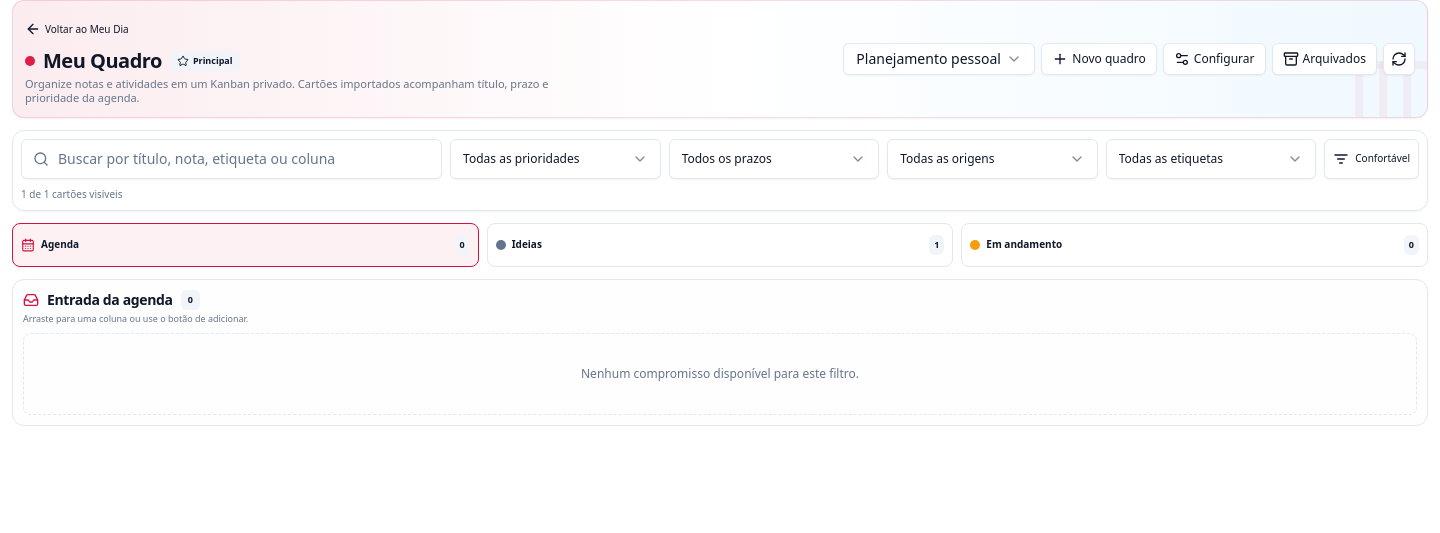
Meu Quadro › mantém o fluxo mobile em uma coluna sem rolagem horizontal na página
This screenshot has width=1440, height=533.
Expected: the heading "Meu Quadro" is shown, [43,47,162,75]
What coordinates should you click on to do the following:
click the button "Ideias 1"
I would click on:
 (527, 244)
Its box is [487,222,953,266].
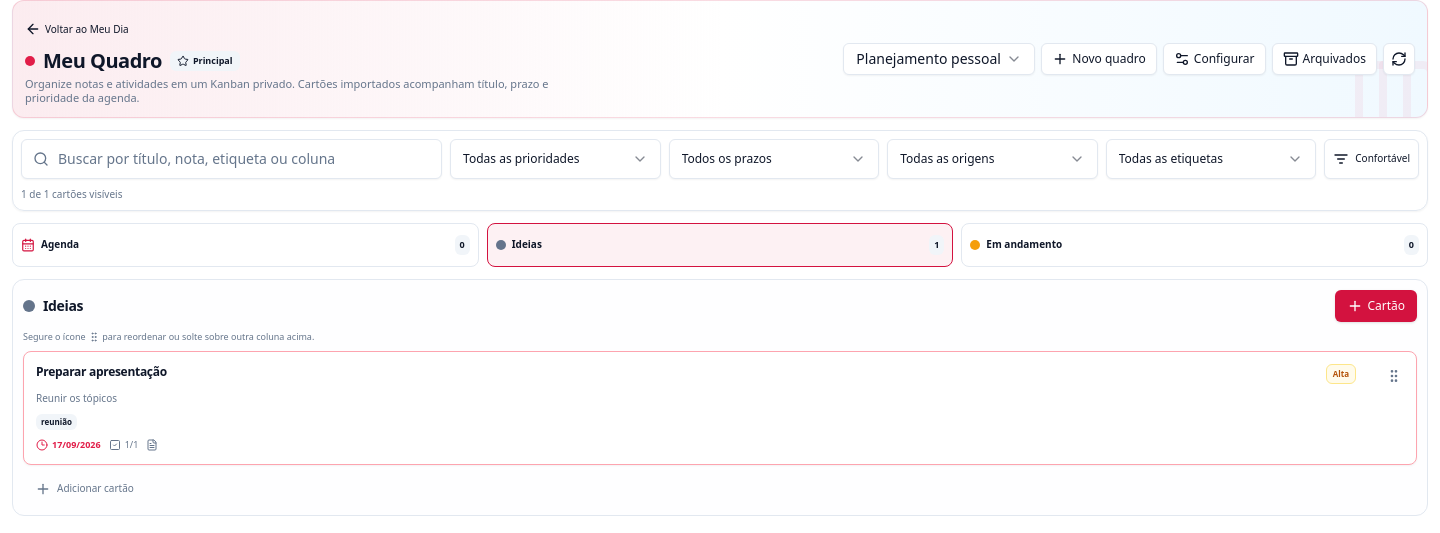
Expected: the heading "Preparar apresentação" is shown, [36,363,167,380]
